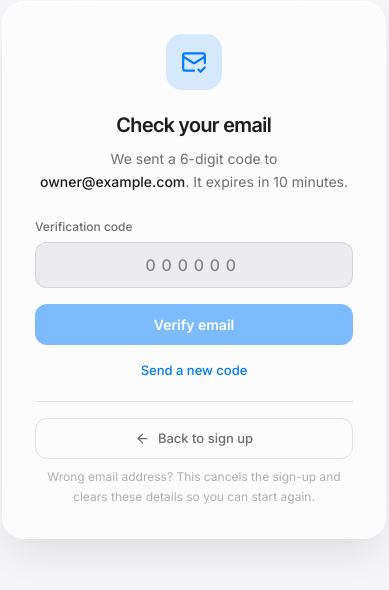
VerifyEmail › starts a cooldown from the server retry_after when resend is throttled
Click the button "Send a new code" at (194, 370), box [141,360,247,380]
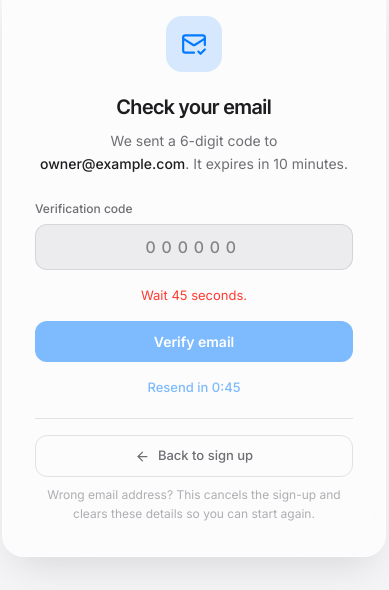
Check: the button "Resend in 0:45" is disabled, box [147,378,240,398]
